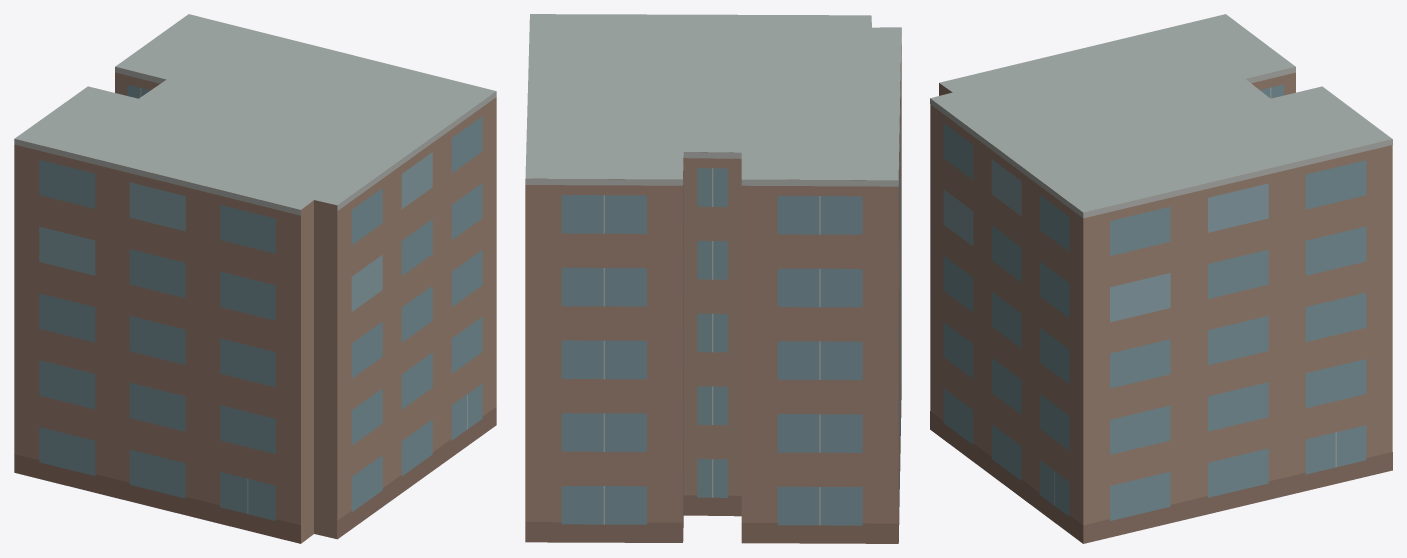
The model's file is survey-upis-32712017.glb.
3 views of the same model, side by side, from view 1: azimuth 30°, elevation 25°; view 2: azimuth 150°, elevation 25°; view 3: azimuth 270°, elevation 25° (orthographic). The views are drawn at different scales.
Visible parts, largest first — view 1: survey-upis-32712017.tmp; view 2: survey-upis-32712017.tmp; view 3: survey-upis-32712017.tmp.
Part boxes in pixels (x1,y1,x2,y2): survey-upis-32712017.tmp: (14, 14, 496, 543); survey-upis-32712017.tmp: (525, 14, 901, 543); survey-upis-32712017.tmp: (930, 14, 1392, 543).
Size of the model in its own units: 18.14 by 14.1 by 17.86.
